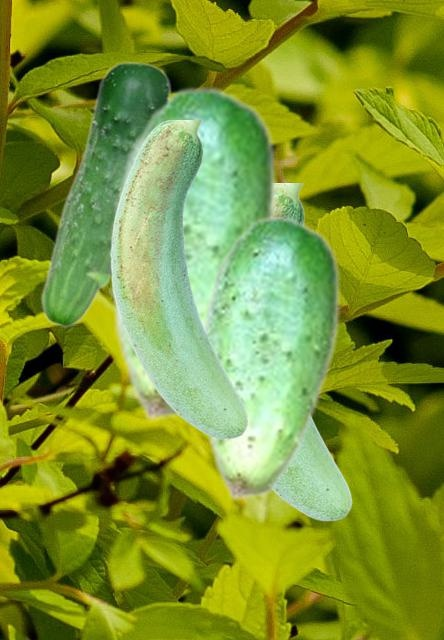cucumber: (109, 84, 275, 421), (110, 120, 247, 438), (199, 214, 339, 500), (40, 61, 171, 327), (273, 183, 351, 520)
